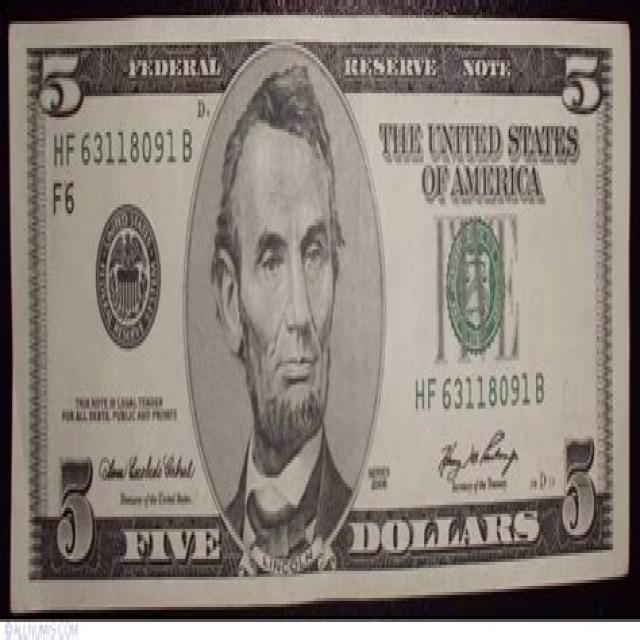Five: (7, 14, 632, 612)
